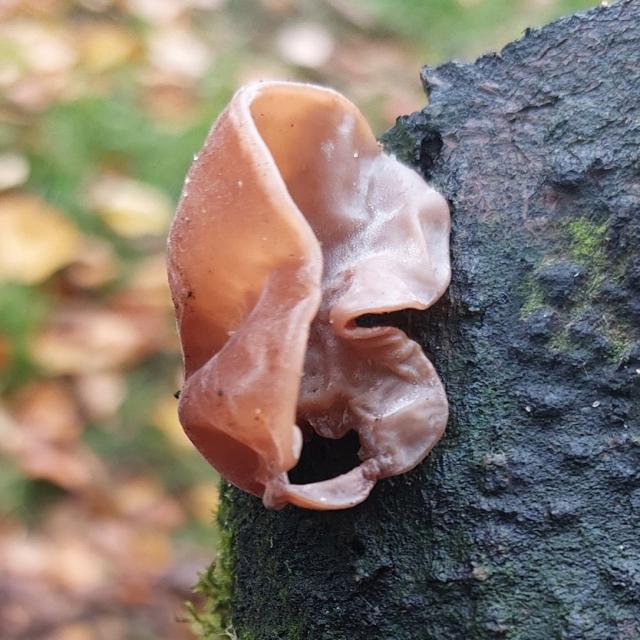Matang: (162, 76, 454, 516)
